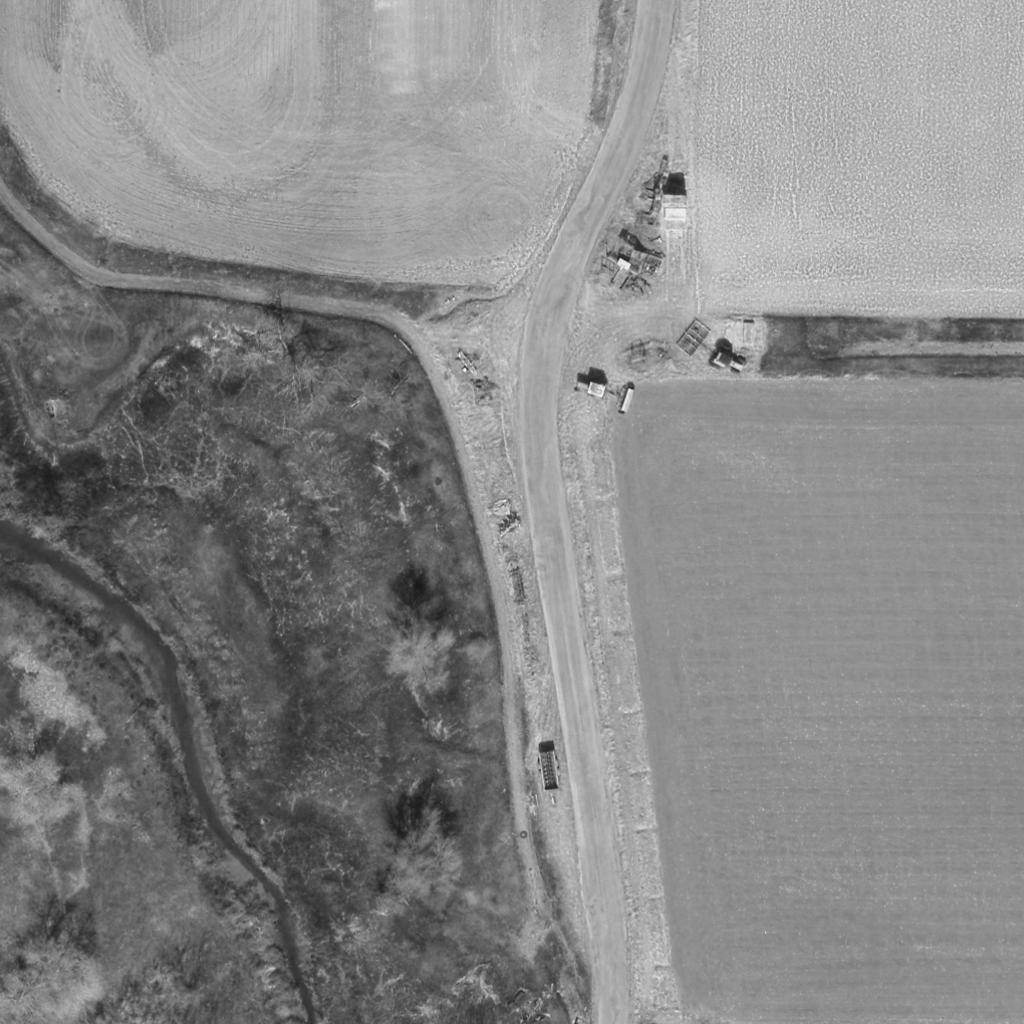vehicle: (706, 342, 752, 386), (572, 370, 612, 404)
